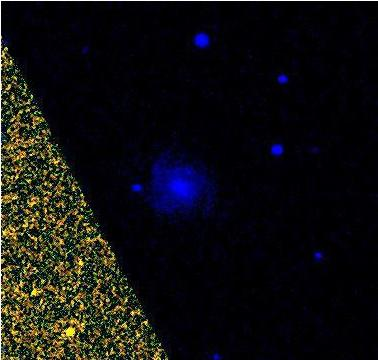star: (55, 316, 85, 346)
